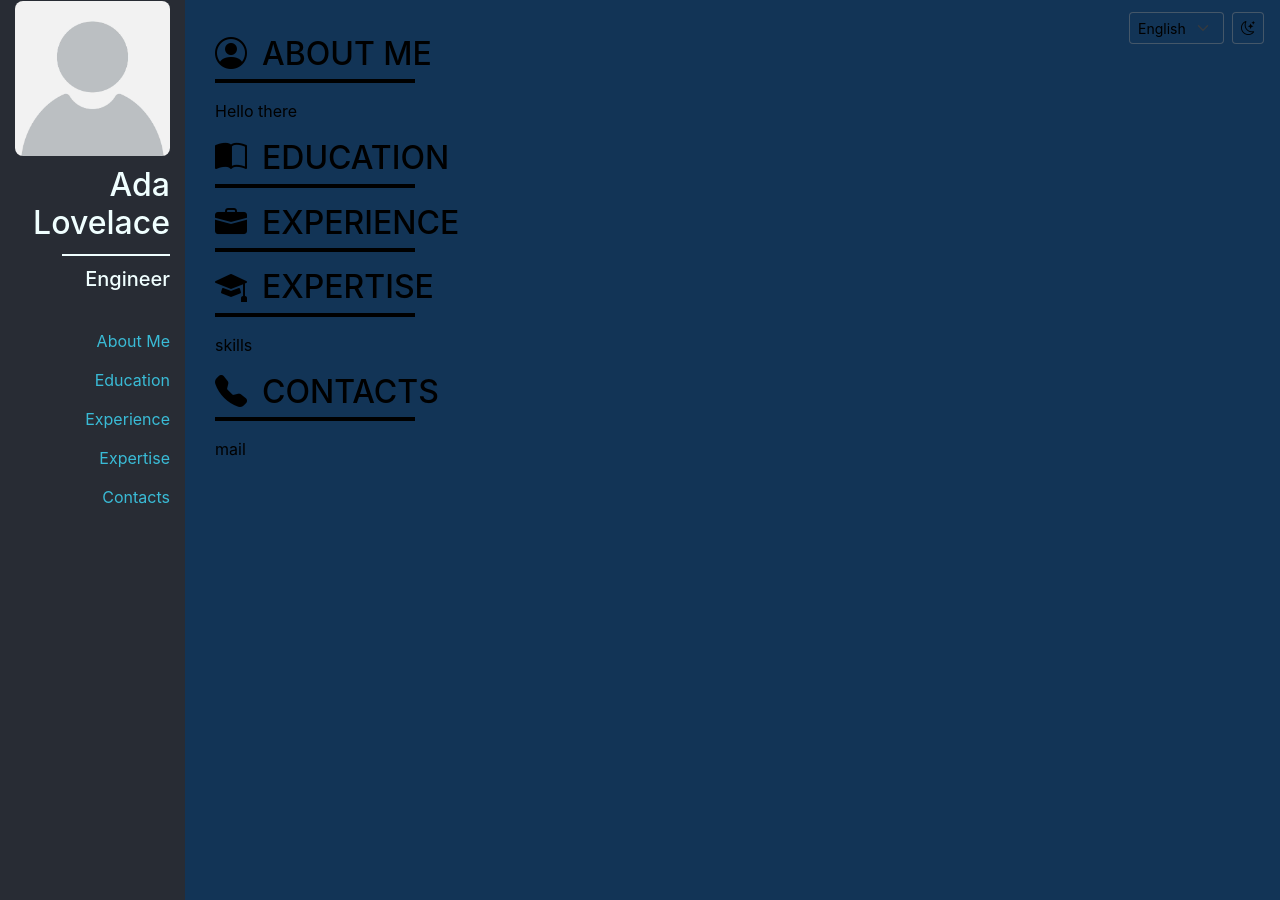
Test: the visitor can switch to dark mode
The width and height of the screenshot is (1280, 900).
Expected: the text "Hello there" is shown, [215, 101, 297, 121]
Step 1. Click the button named "Switch to dark mode" → point(1248, 28), box [1232, 12, 1264, 44]
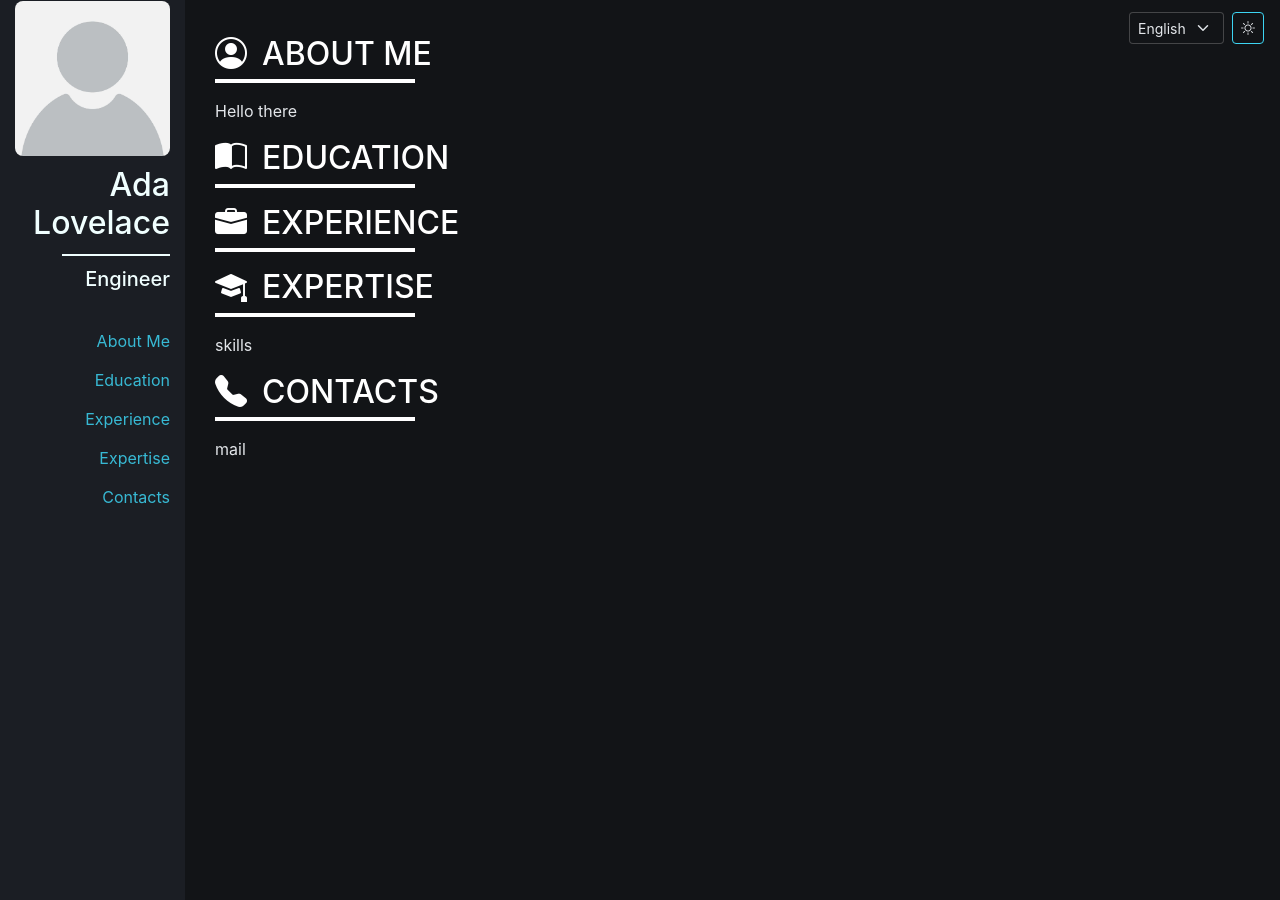
Result: the button named "Switch to light mode" is shown at [1232, 12, 1264, 44]
